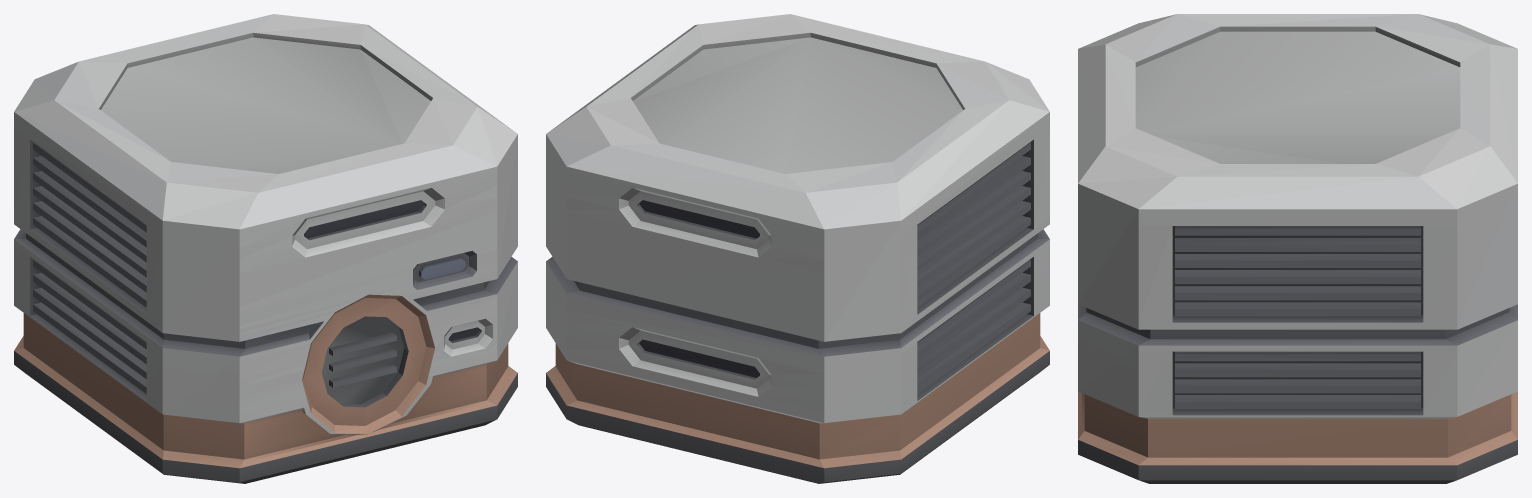
File: reactor.glb
3 views of the same model, side by side, from view 1: azimuth 30°, elevation 25°; view 2: azimuth 150°, elevation 25°; view 3: azimuth 270°, elevation 25° (orthographic). The views are drawn at different scales.
Parts seen in each view (by area): view 1: reactor; view 2: reactor; view 3: reactor.
Part boxes in pixels (x1,y1,x2,y2): reactor: (14,14,517,483); reactor: (546,14,1049,483); reactor: (1078,14,1517,483).
Bounding box in the file's own units: 11.2 × 8.4 × 11.2.
